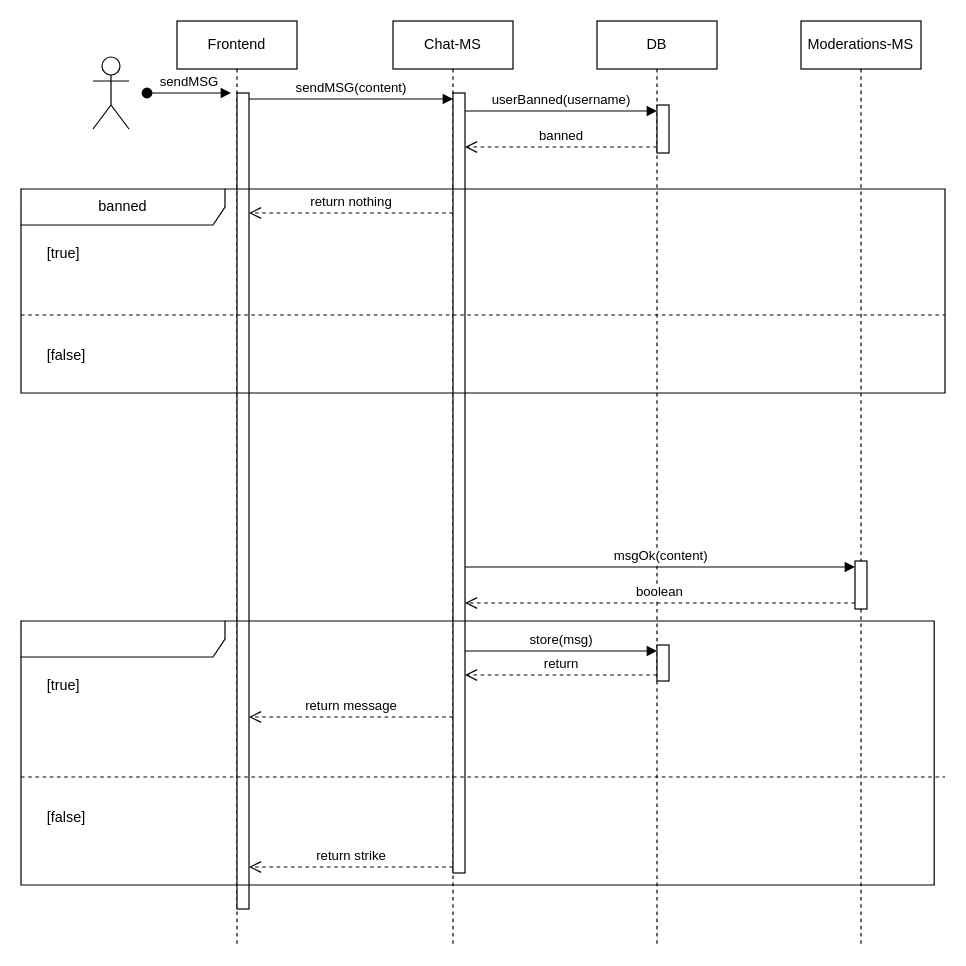
This 966x966 diagram has some shape labels left out. Here are the shapes that lost their labels. From the top down, the centre of each, then its label:
At (110,92): "Actor".
At (477,752): "msgOk".
